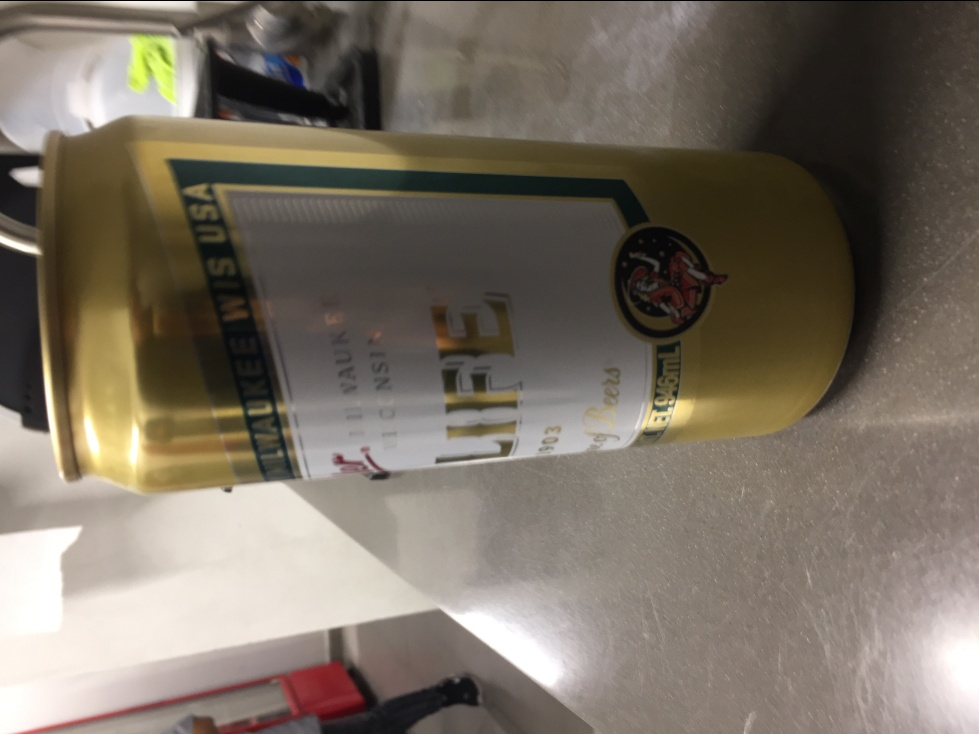miller: (35, 112, 867, 498)
